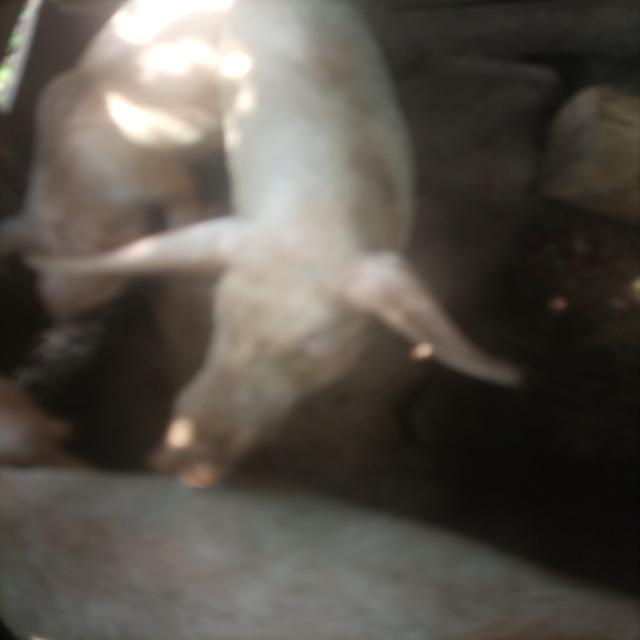pig: (0, 0, 590, 523)
